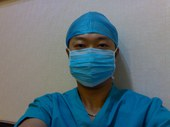face_mask: (66, 29, 116, 87)
